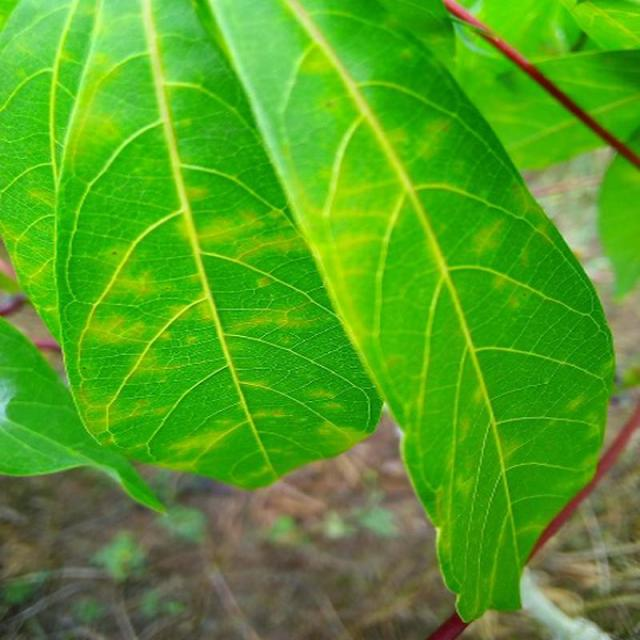cassava leaf: (1, 0, 618, 623), (0, 0, 386, 493)
